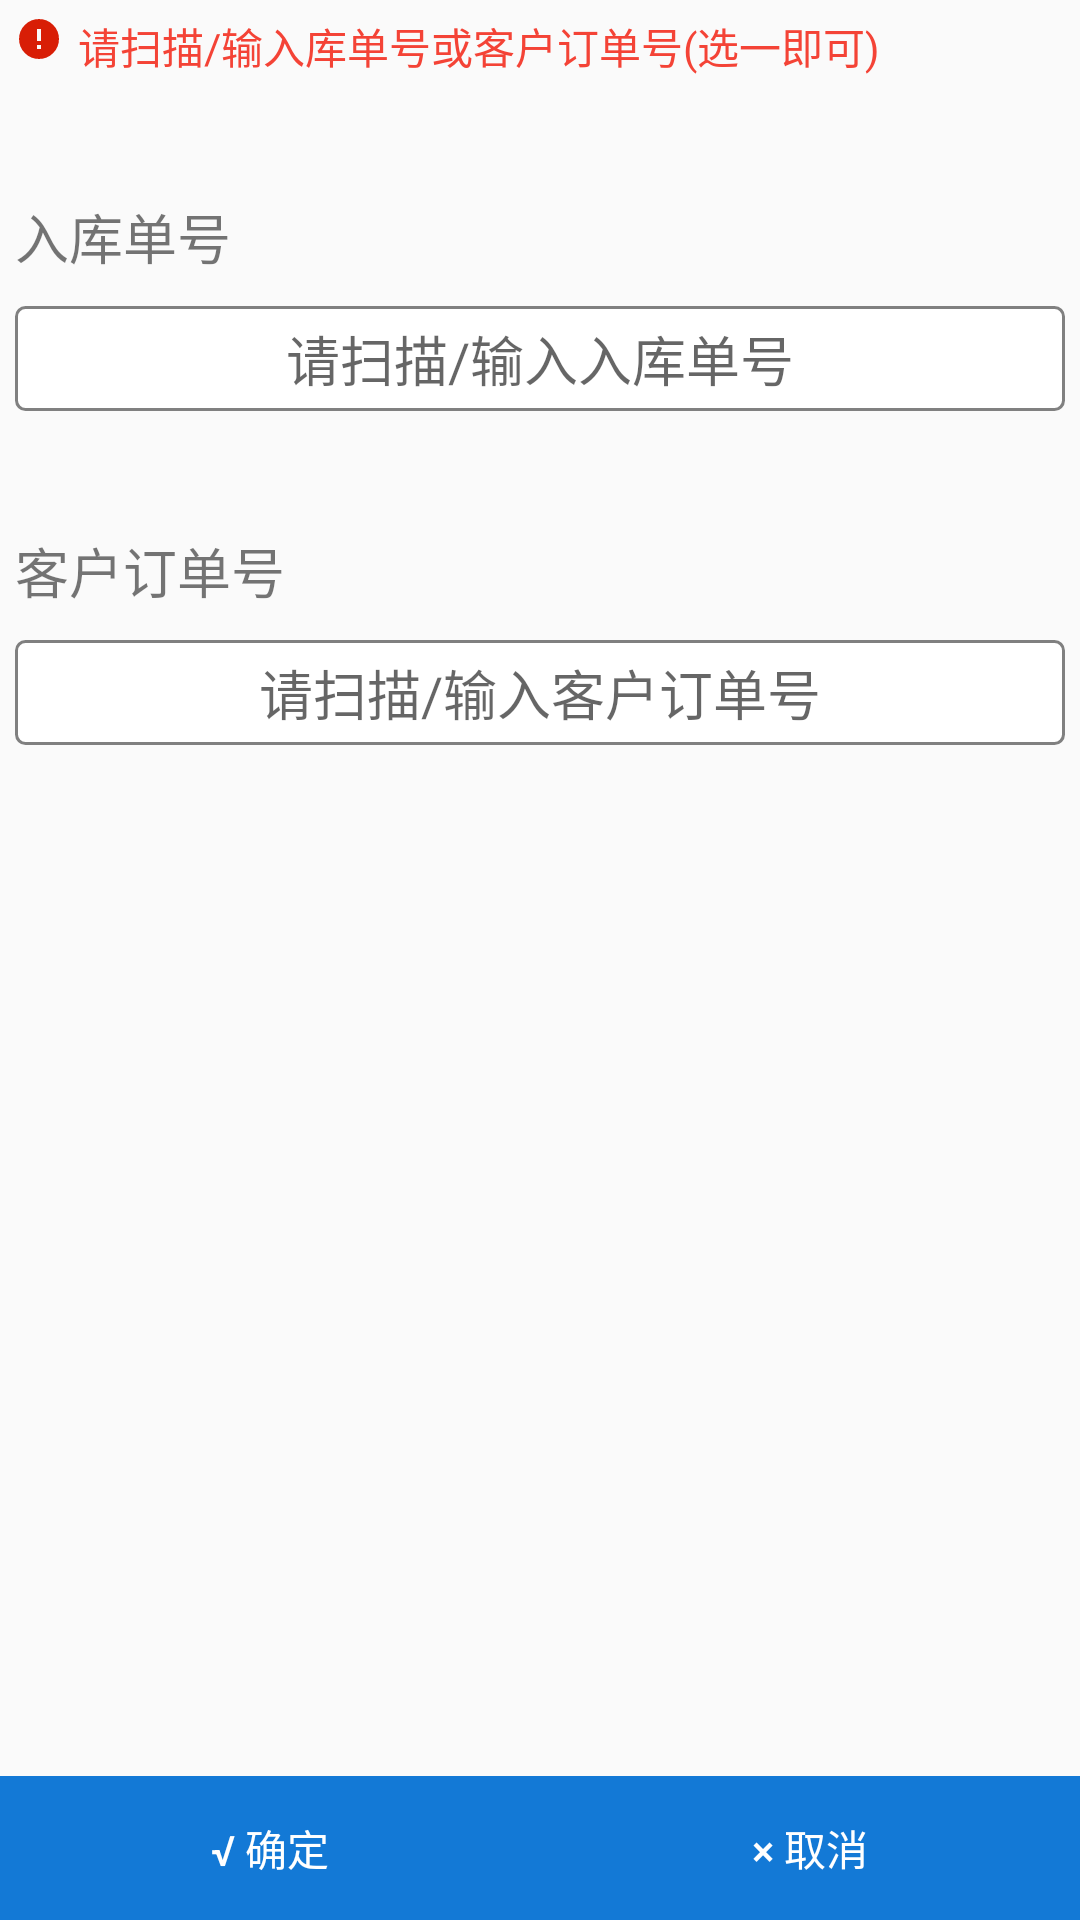

Named icons in this screenshot (1080 × 1920) and their centers, [x,y]:
error: [39,39]
